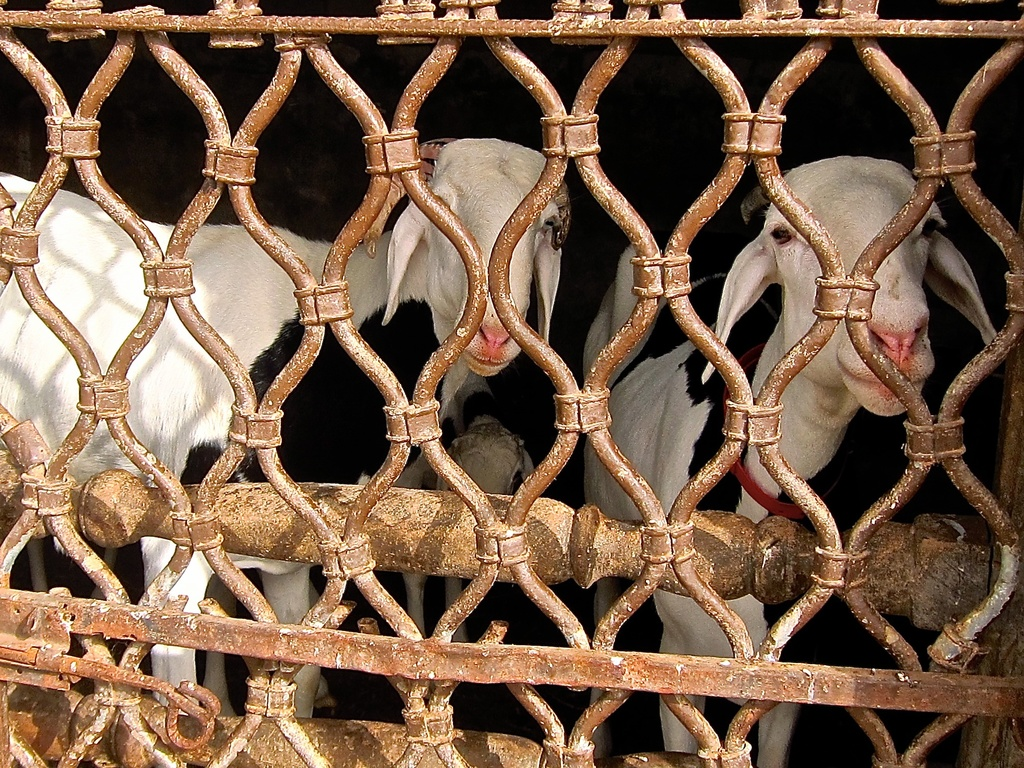Animal: (0, 130, 572, 717), (579, 148, 1000, 766)
